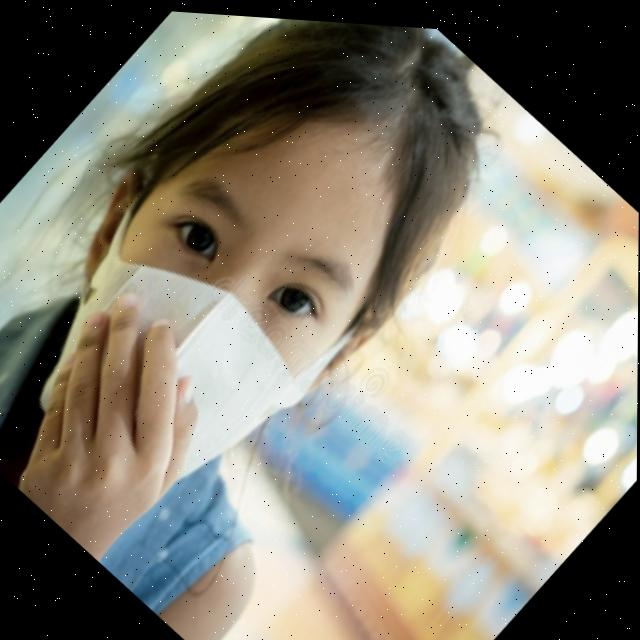Mask: (0, 141, 364, 559)
